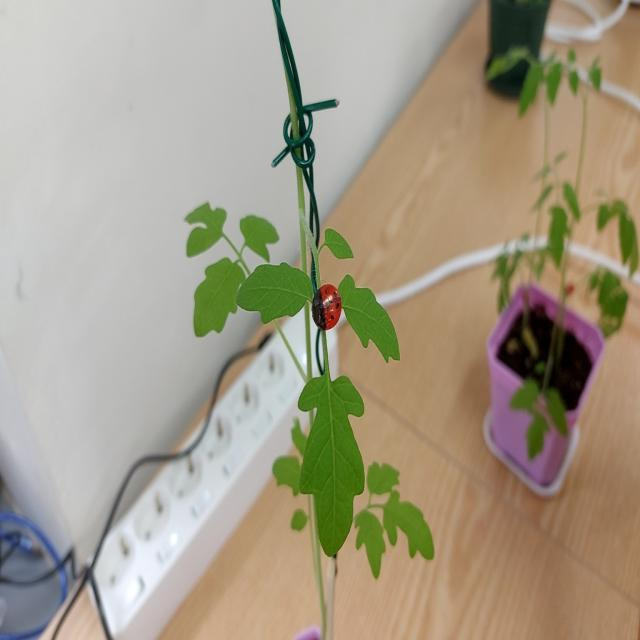bug: (306, 273, 344, 338), (560, 278, 576, 300)
